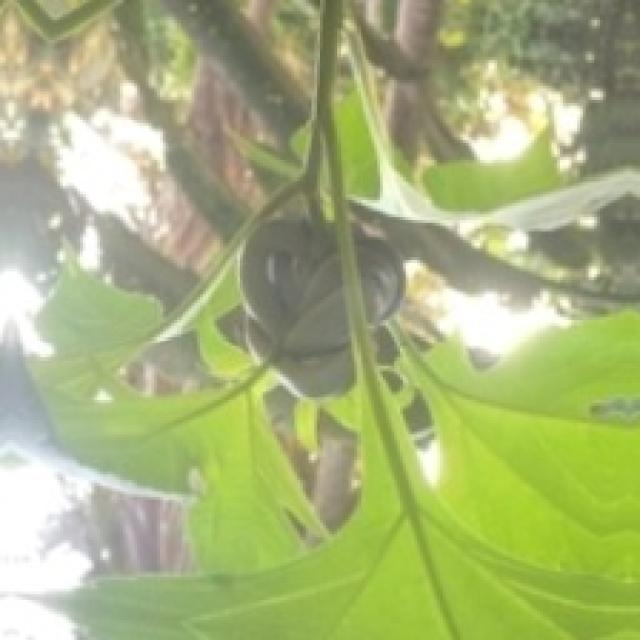red-tailed green ratsnake: (240, 220, 351, 394), (354, 230, 402, 323)
